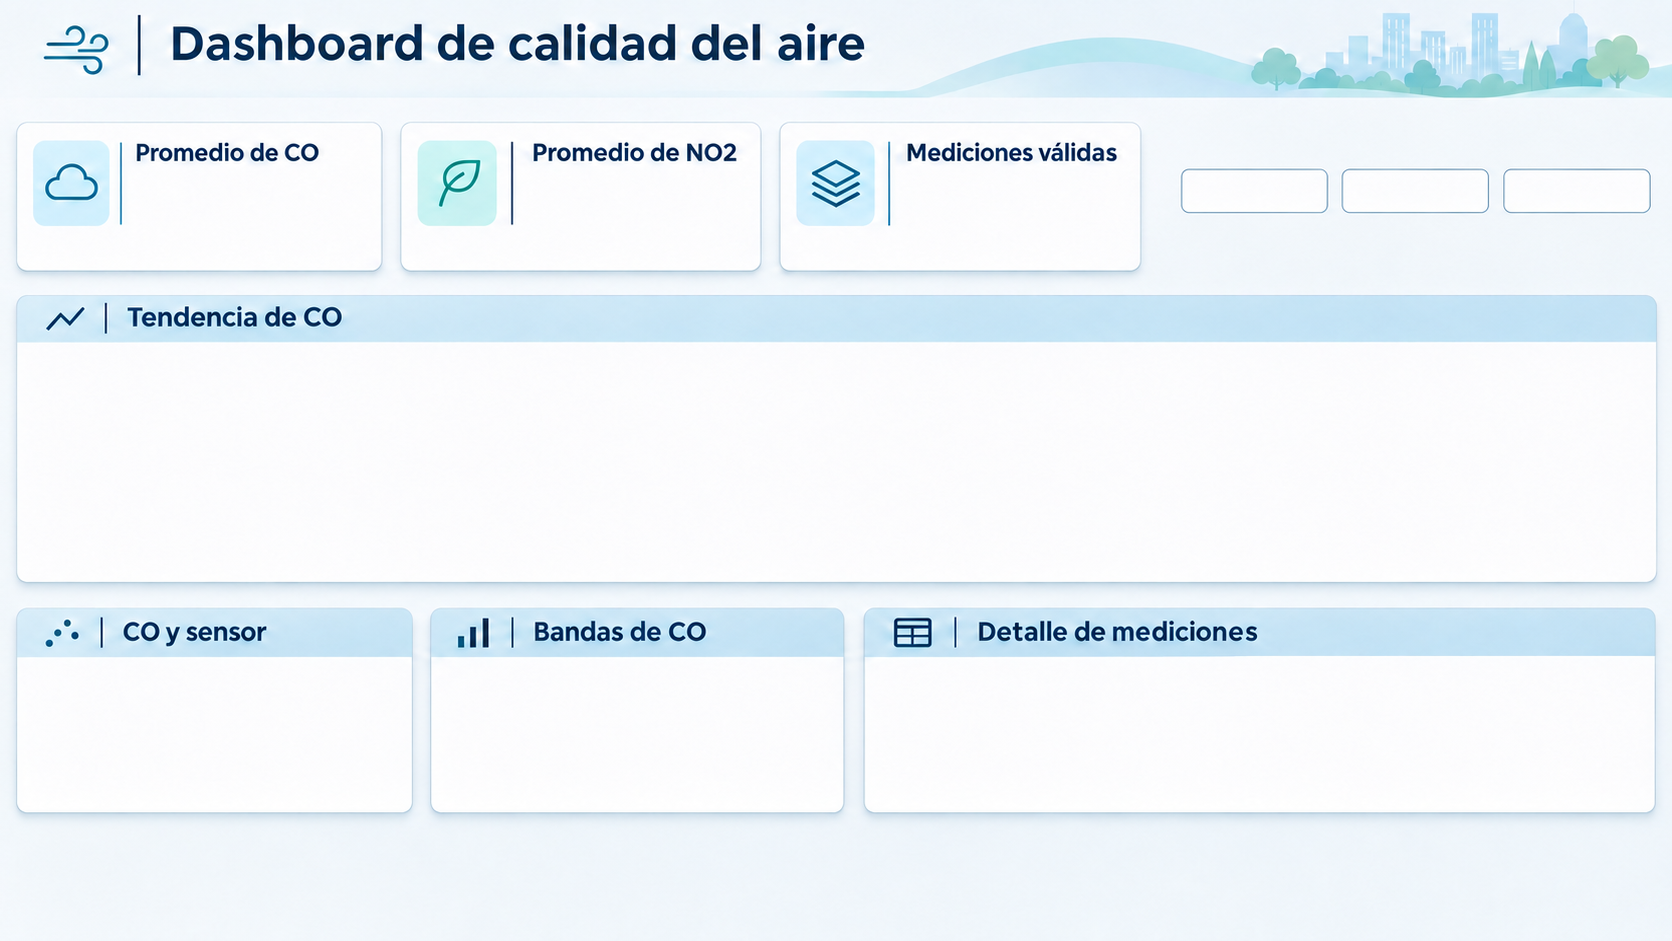

The page's visual inventory and layout, read from the dashboard file:
{"tool":"powerbi","page":{"name":"Página 1","canvas":[1920,1080],"ordinal":0},"visuals":[{"type":"cardVisual","fields":{"Data":["Avg(hecho_calidad_aire.co_gt)"]},"box":[425.1,120.9,300,300],"z":0},{"type":"cardVisual","fields":{"Data":["Avg(hecho_calidad_aire.no2_gt)"]},"box":[74.7,120.9,300,300],"z":1000},{"type":"clusteredColumnChart","fields":{"Category":["hecho_calidad_aire.banda_co"],"Y":["CountNonNull(hecho_calidad_aire.banda_co)"]},"box":[758.7,120.9,300,300],"z":2000},{"type":"scatterChart","fields":{"Category":["hecho_calidad_aire.medicion_id"],"X":["Sum(hecho_calidad_aire.co_gt)"],"Y":["Sum(hecho_calidad_aire.pt08_s1_co)"]},"box":[1088,120,300,300],"z":3000},{"type":"slicer","fields":{"Values":["dim_tiempo.anio"]},"box":[74,432,300,300],"z":4000},{"type":"slicer","fields":{"Values":["dim_tiempo.mes"]},"box":[425,431,300,300],"z":5000},{"type":"slicer","fields":{"Values":["hecho_calidad_aire.banda_co"]},"box":[788.2,461.2,300,300],"z":6000},{"type":"textbox","box":[1398,120,300,300],"z":7000}]}

Visuals, with their boxes in screenshot pixels (x1, y1, x2, y2), scaled from the page's 1920x1080 canvas onto the 1672x941 screenshot:
cardVisual - Avg(hecho_calidad_aire.co_gt): box=[370, 105, 631, 367]
cardVisual - Avg(hecho_calidad_aire.no2_gt): box=[65, 105, 326, 367]
clusteredColumnChart - hecho_calidad_aire.banda_co x CountNonNull(hecho_calidad_aire.banda_co): box=[661, 105, 922, 367]
scatterChart - hecho_calidad_aire.medicion_id x Sum(hecho_calidad_aire.co_gt): box=[947, 105, 1209, 366]
slicer - dim_tiempo.anio: box=[64, 376, 326, 638]
slicer - dim_tiempo.mes: box=[370, 376, 631, 637]
slicer - hecho_calidad_aire.banda_co: box=[686, 402, 948, 663]
textbox: box=[1217, 105, 1479, 366]
